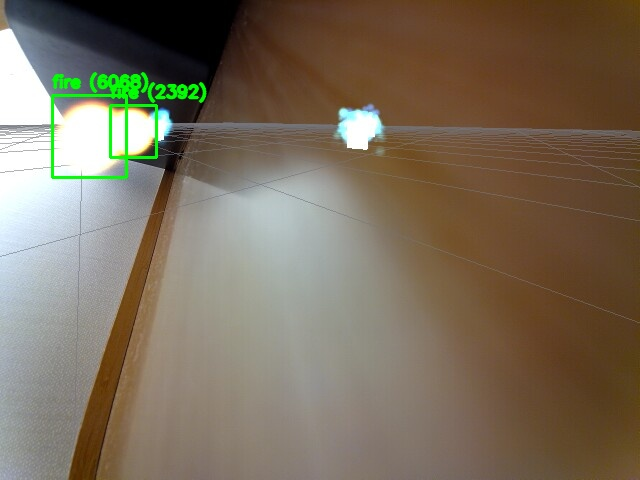fire: (52, 95, 126, 177), (110, 105, 156, 157)
